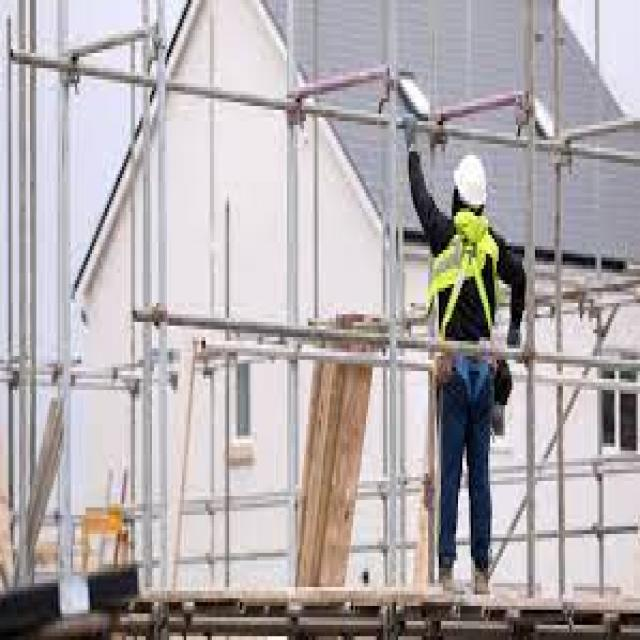Reflective-Jacket: (419, 208, 516, 382)
Safety-Helmet: (443, 140, 497, 220)
